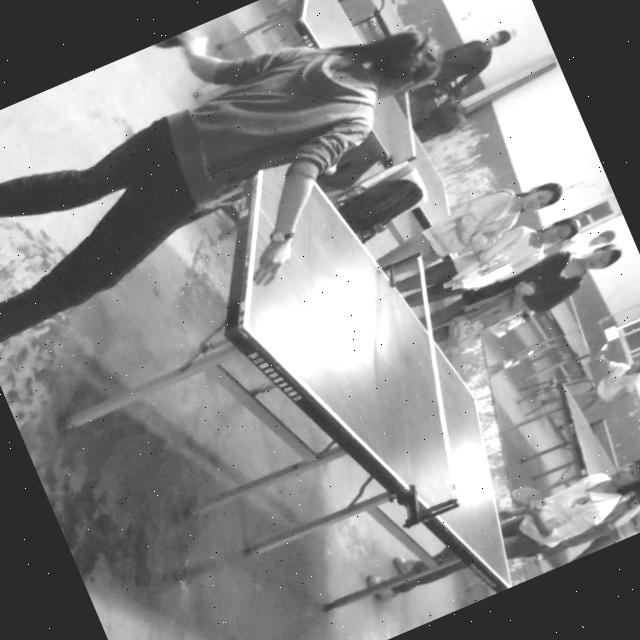ping-pong-ball: (321, 162, 338, 177), (423, 24, 432, 32)
